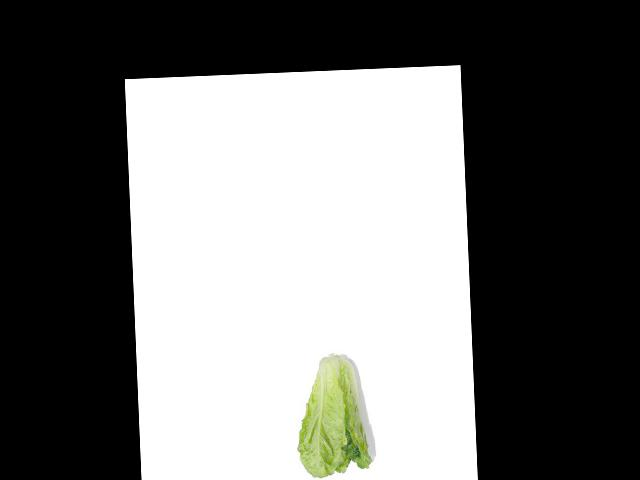lettuce: (294, 352, 371, 472)
